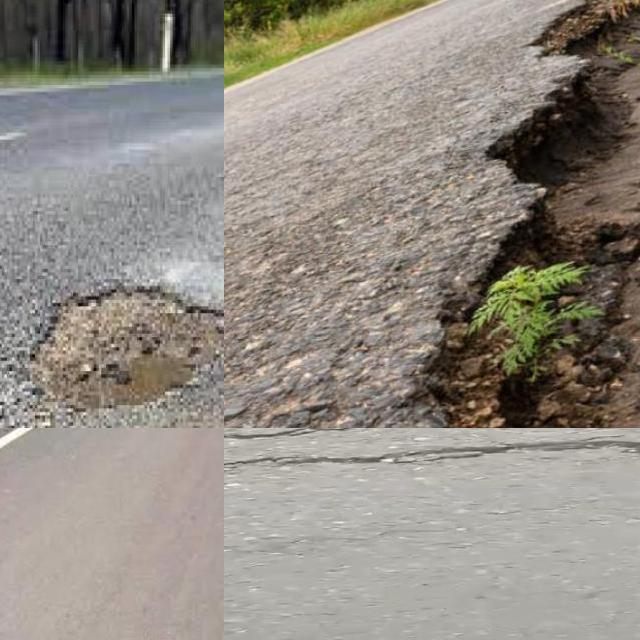Lubang: (26, 283, 224, 410)
Melintang: (224, 428, 640, 480)
Pinggir: (415, 0, 640, 428)
